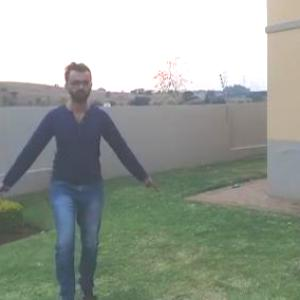land: (1, 0, 279, 299)
